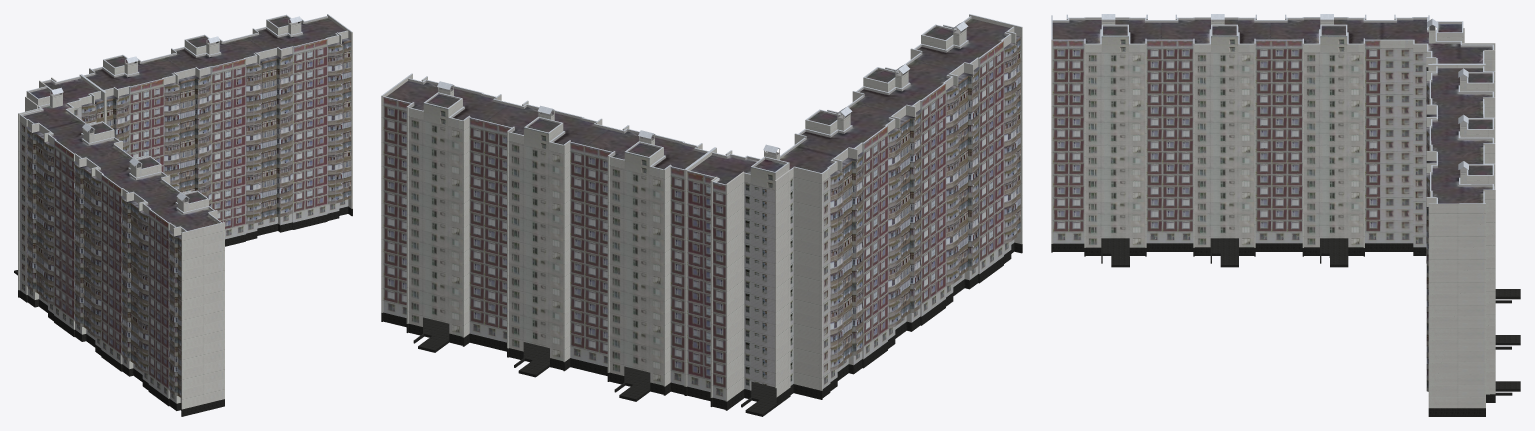
File: p44twhite.fbx
3 views of the same model, side by side, from view 1: azimuth 30°, elevation 25°; view 2: azimuth 150°, elevation 25°; view 3: azimuth 270°, elevation 25° (orthographic). The views are drawn at different scales.
Parts seen in each view (by area): view 1: _C-Component#6 (Loose Mesh); view 2: _C-Component#6 (Loose Mesh); view 3: _C-Component#6 (Loose Mesh).
Boxes of the visible parts, left/top/right/bottom form: _C-Component#6 (Loose Mesh): left=14, top=14, right=352, bottom=416; _C-Component#6 (Loose Mesh): left=381, top=14, right=1022, bottom=416; _C-Component#6 (Loose Mesh): left=1051, top=14, right=1520, bottom=416.
Bounding box in the file's own units: 9924 × 5594 × 10393.
19 materials, 17 textured.
